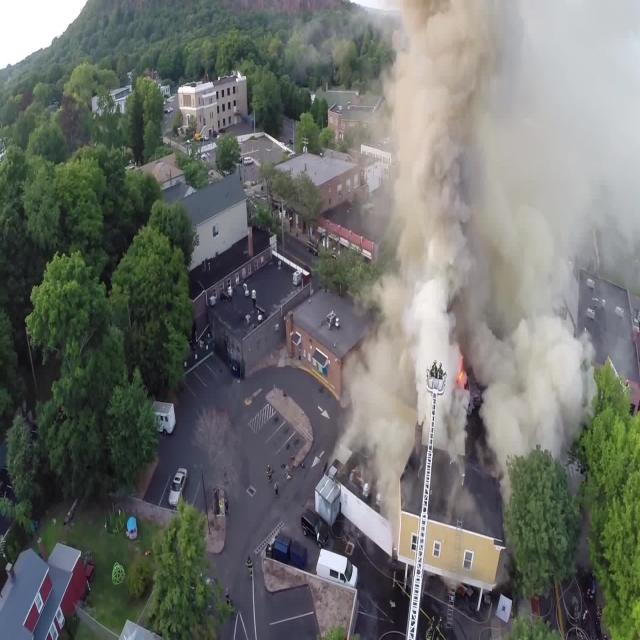Smoke: (342, 2, 640, 558)
